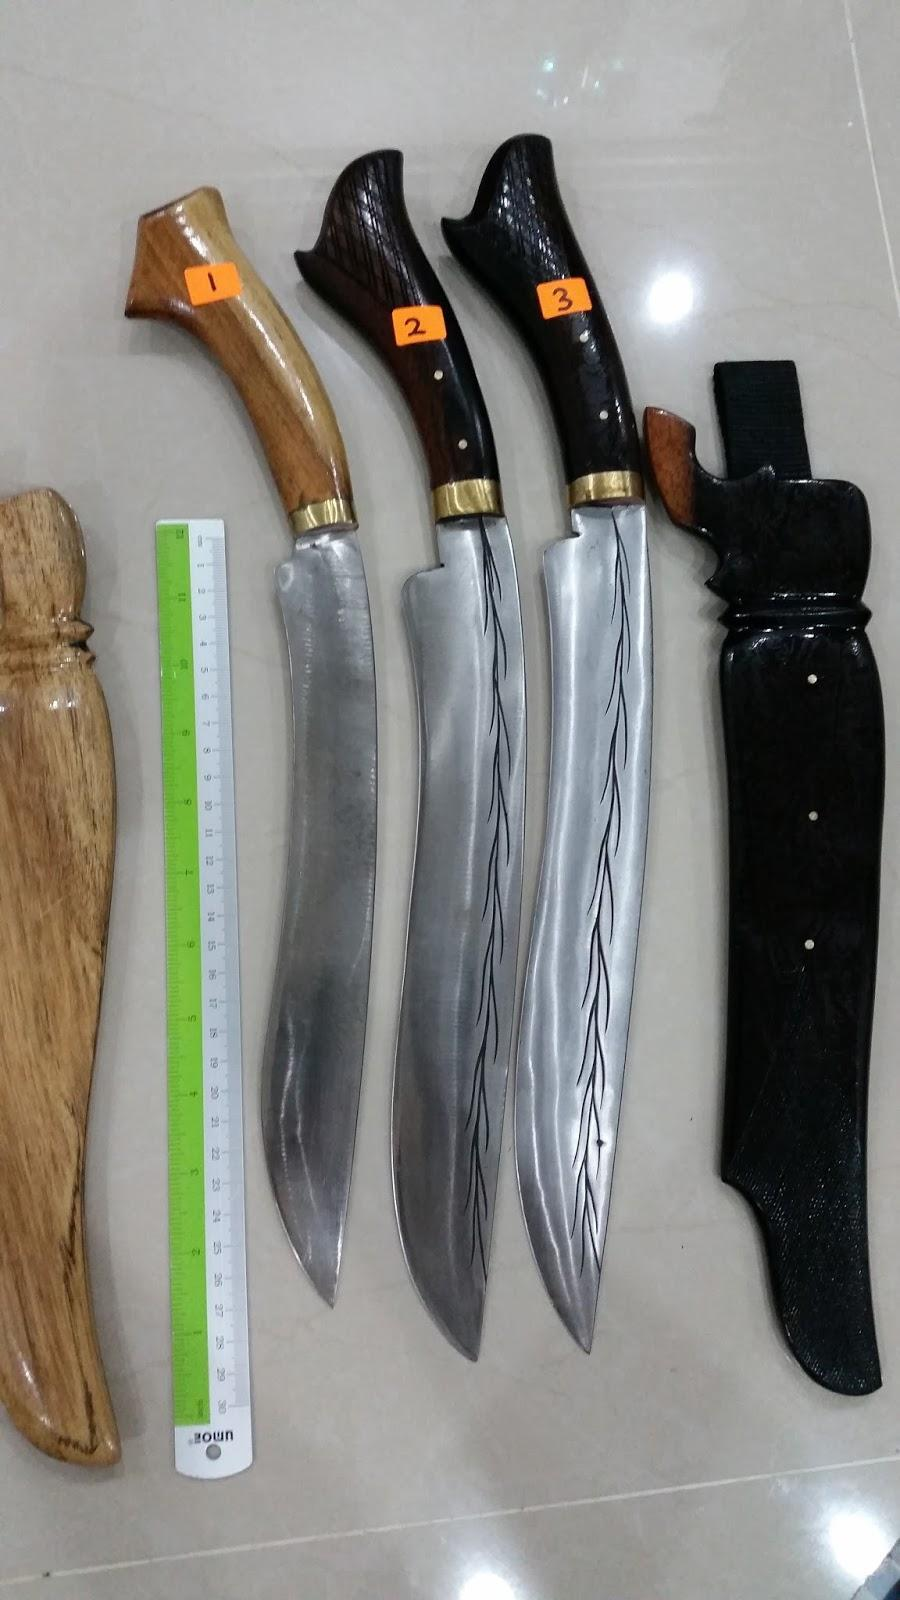facao: (126, 189, 377, 1304), (296, 149, 526, 1358), (441, 134, 651, 1352)
